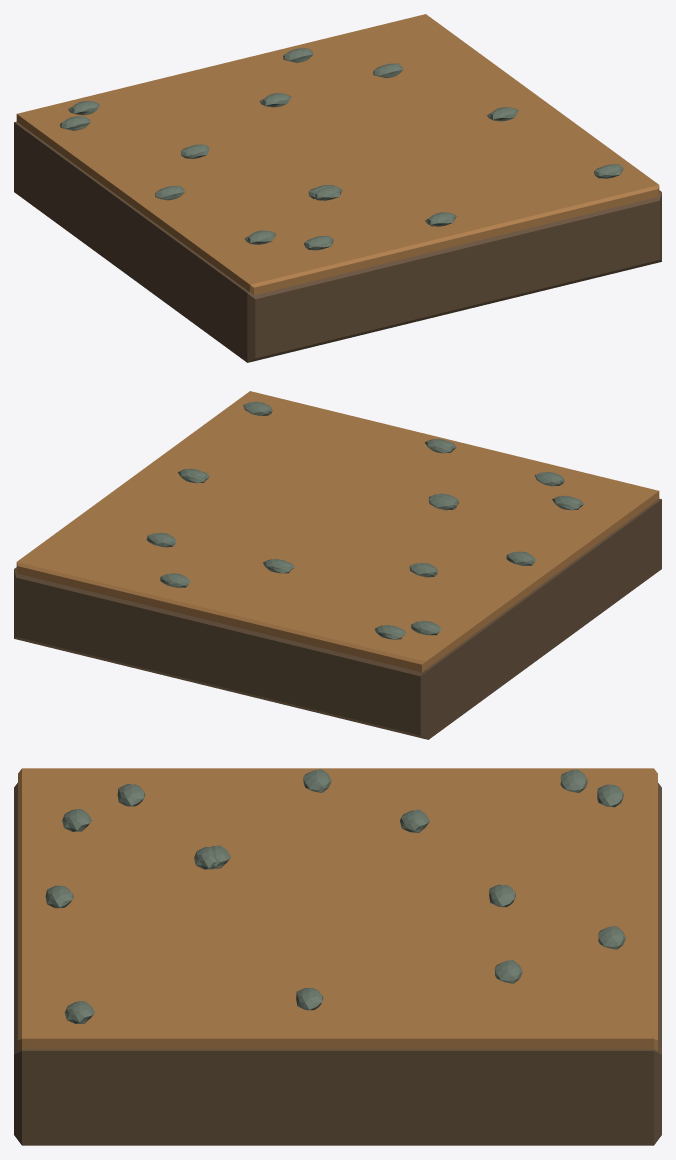
The model's file is dirt_tile.glb.
3 renders of one model, top to bottom at view 1: azimuth 30°, elevation 25°; view 2: azimuth 150°, elevation 25°; view 3: azimuth 270°, elevation 25°, orthographic. The views are drawn at different scales.
Visible parts, largest first — view 1: leatherLight_130, dirt_129; view 2: leatherLight_130, dirt_129; view 3: leatherLight_130, dirt_129.
Part boxes in pixels (x1=…): leatherLight_130: x1=16, y1=14, x2=659, y2=295; dirt_129: x1=14, y1=121, x2=661, y2=362; leatherLight_130: x1=16, y1=391, x2=659, y2=672; dirt_129: x1=14, y1=498, x2=661, y2=739; leatherLight_130: x1=18, y1=768, x2=657, y2=1050; dirt_129: x1=14, y1=783, x2=661, y2=1145.
Size of the model in its own units: 2.05 by 0.415 by 2.05.
